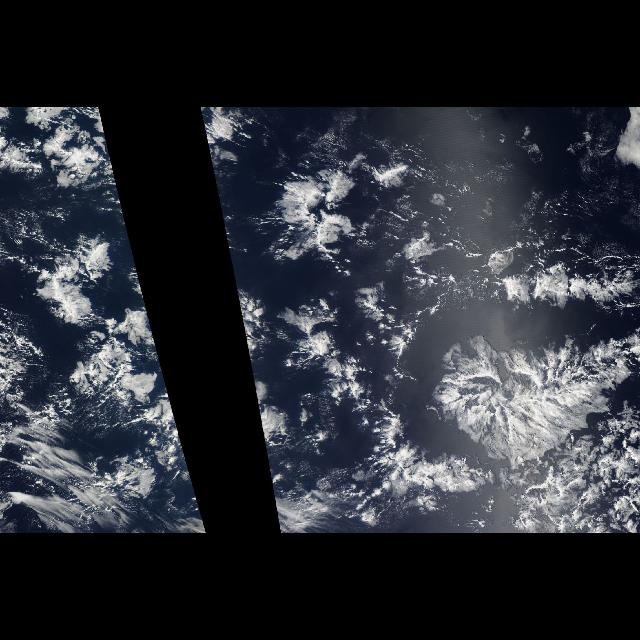Fish: (286, 248, 630, 467)
Flower: (202, 116, 630, 500), (14, 116, 198, 500)
